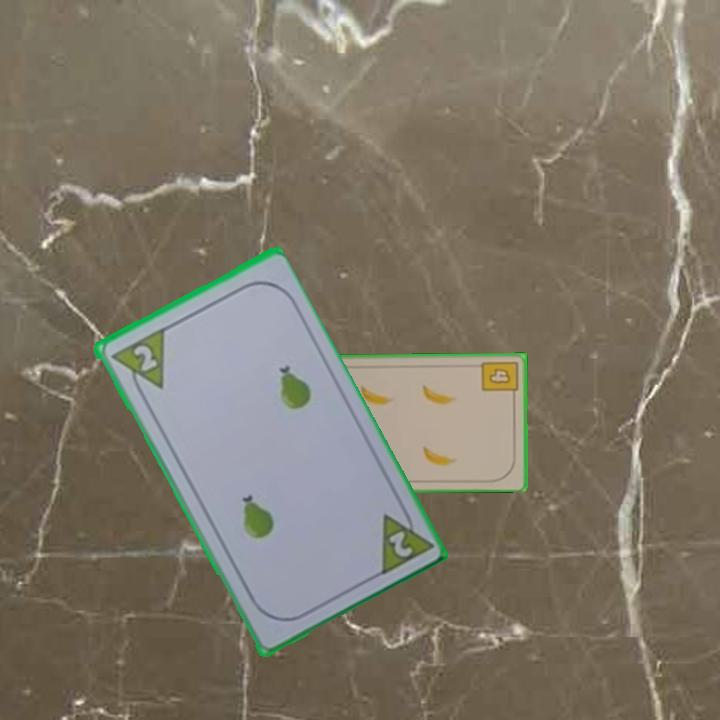2p: (374, 499, 434, 579), (128, 340, 160, 375)
4b: (478, 357, 520, 401)
